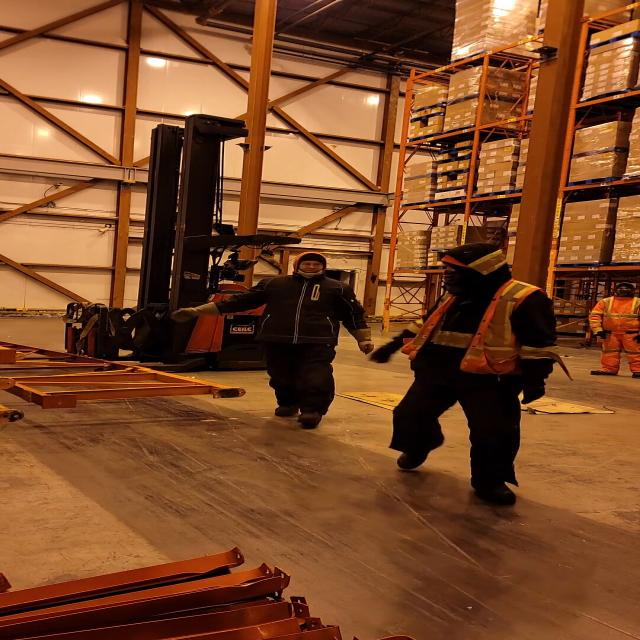forklift: (62, 122, 307, 374)
human: (356, 242, 565, 512), (175, 250, 376, 432), (584, 280, 640, 380)
objectofinterest: (1, 339, 250, 410), (484, 387, 623, 417), (324, 389, 444, 416)
